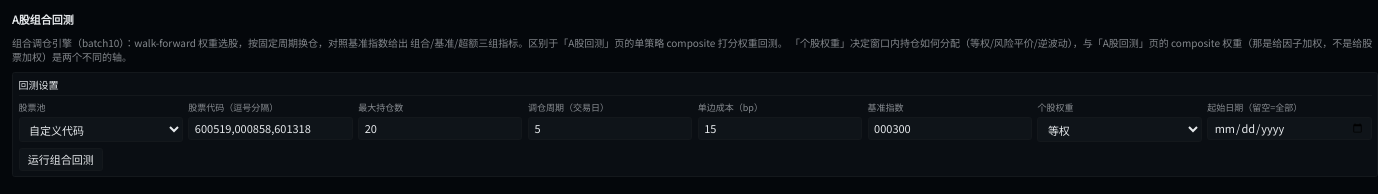
Test case: AsharePortfolioPage › error 分支:mock reject 时错误信息显示,不渲染指标分区
Click the button "运行组合回测": {"x": 61, "y": 159} [18, 148, 103, 171]
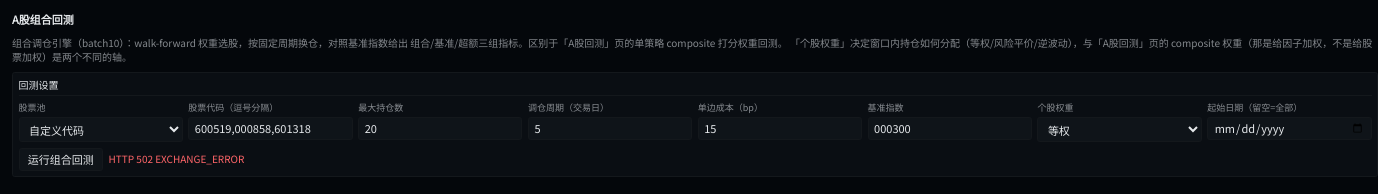
Expected: the text "HTTP 502 EXCHANGE_ERROR" is shown, [108, 152, 244, 166]
